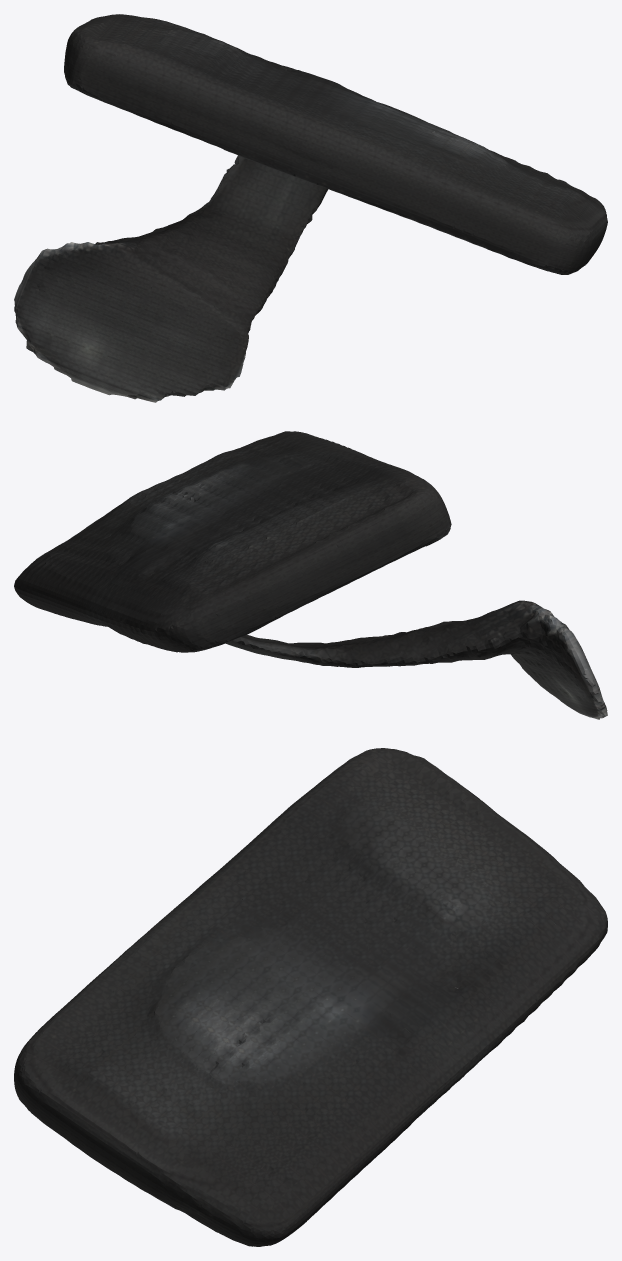
The model's file is instantmesh_recon.glb.
3 views of the same model, one above another, from view 1: azimuth 30°, elevation 25°; view 2: azimuth 150°, elevation 25°; view 3: azimuth 270°, elevation 25° (orthographic). The views are drawn at different scales.
Visible parts, largest first — view 1: world; view 2: world; view 3: world.
Part boxes in pixels (bbox=[...]): world: bbox=[14, 14, 607, 402]; world: bbox=[14, 431, 607, 719]; world: bbox=[14, 748, 607, 1246].
Bounding box in the file's own units: 0.3113 × 0.1425 × 0.2617.
1 material, 1 textured.
